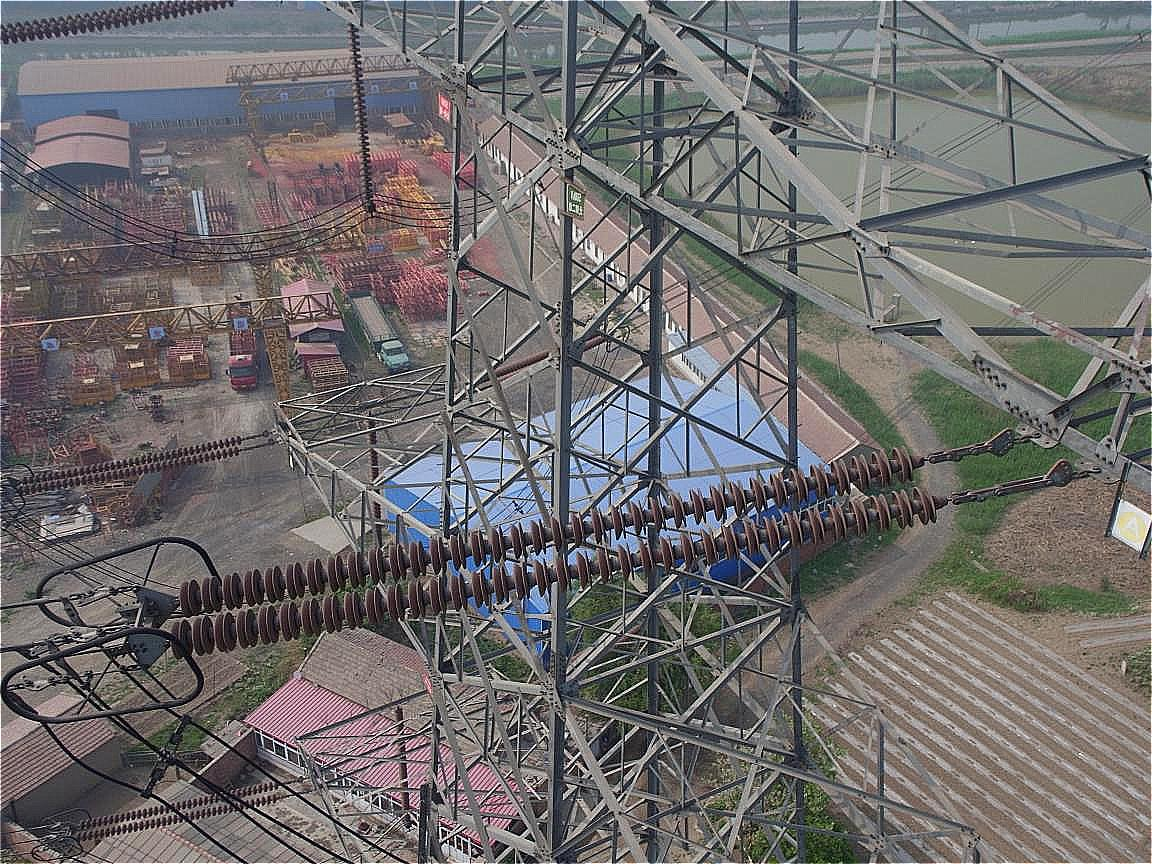insultor1: (1, 431, 245, 496)
insultor2: (142, 441, 956, 658)
